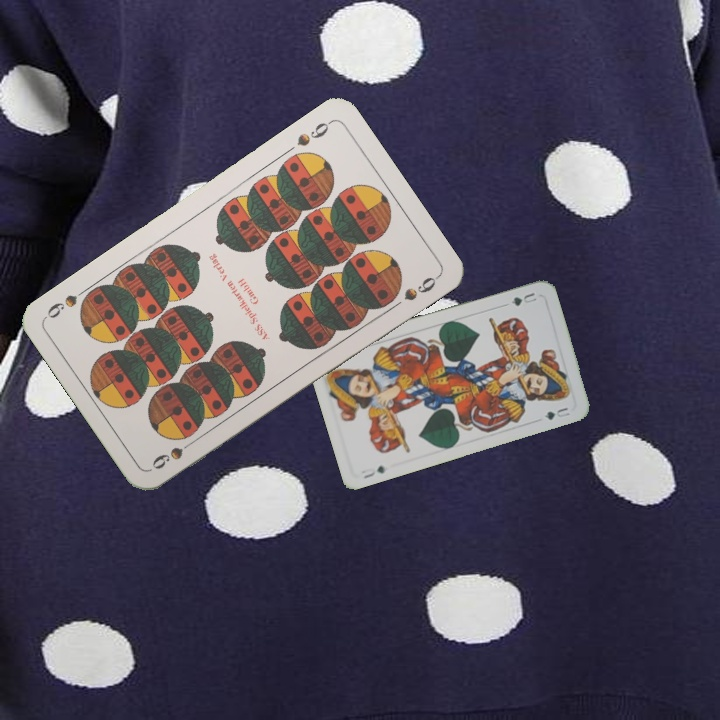GU: (501, 288, 539, 309), (359, 461, 388, 481)
S9: (147, 434, 201, 473), (293, 116, 335, 150)
